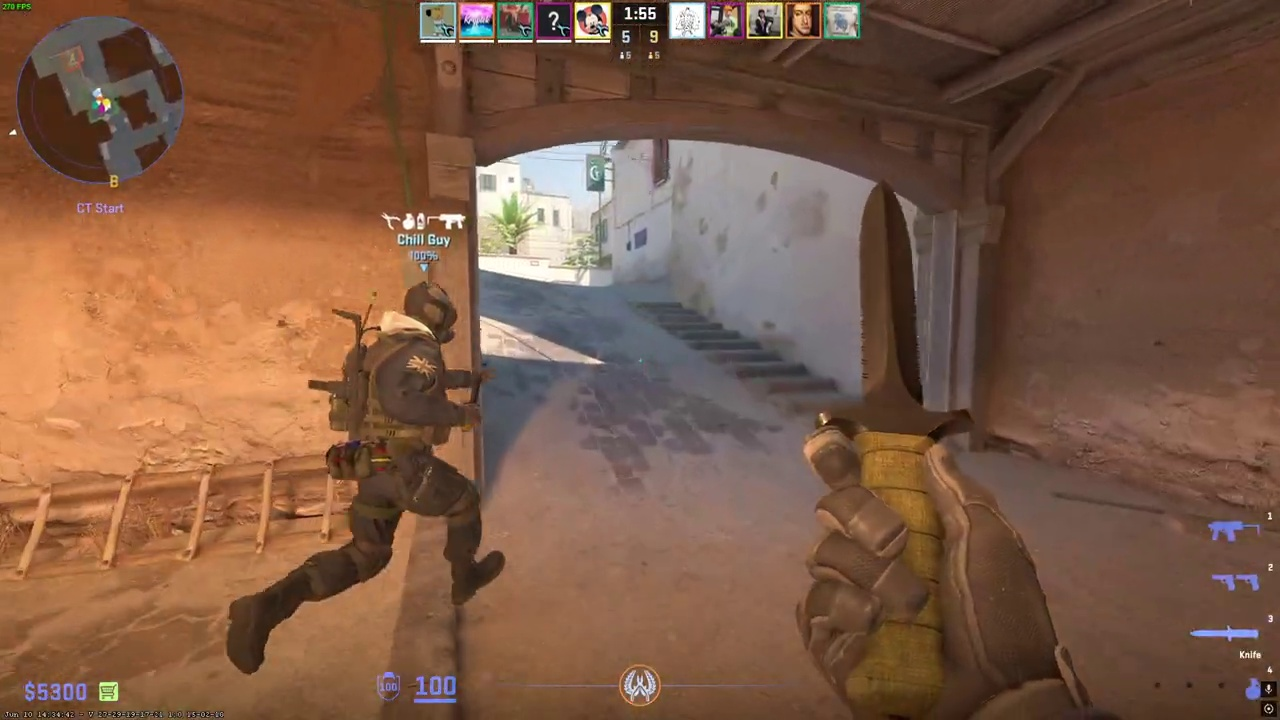CT: (250, 281, 496, 657)
